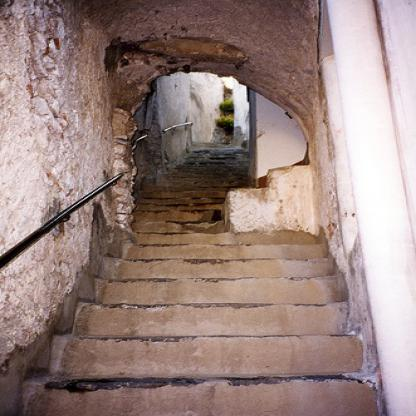stairs: (107, 277, 342, 416)
